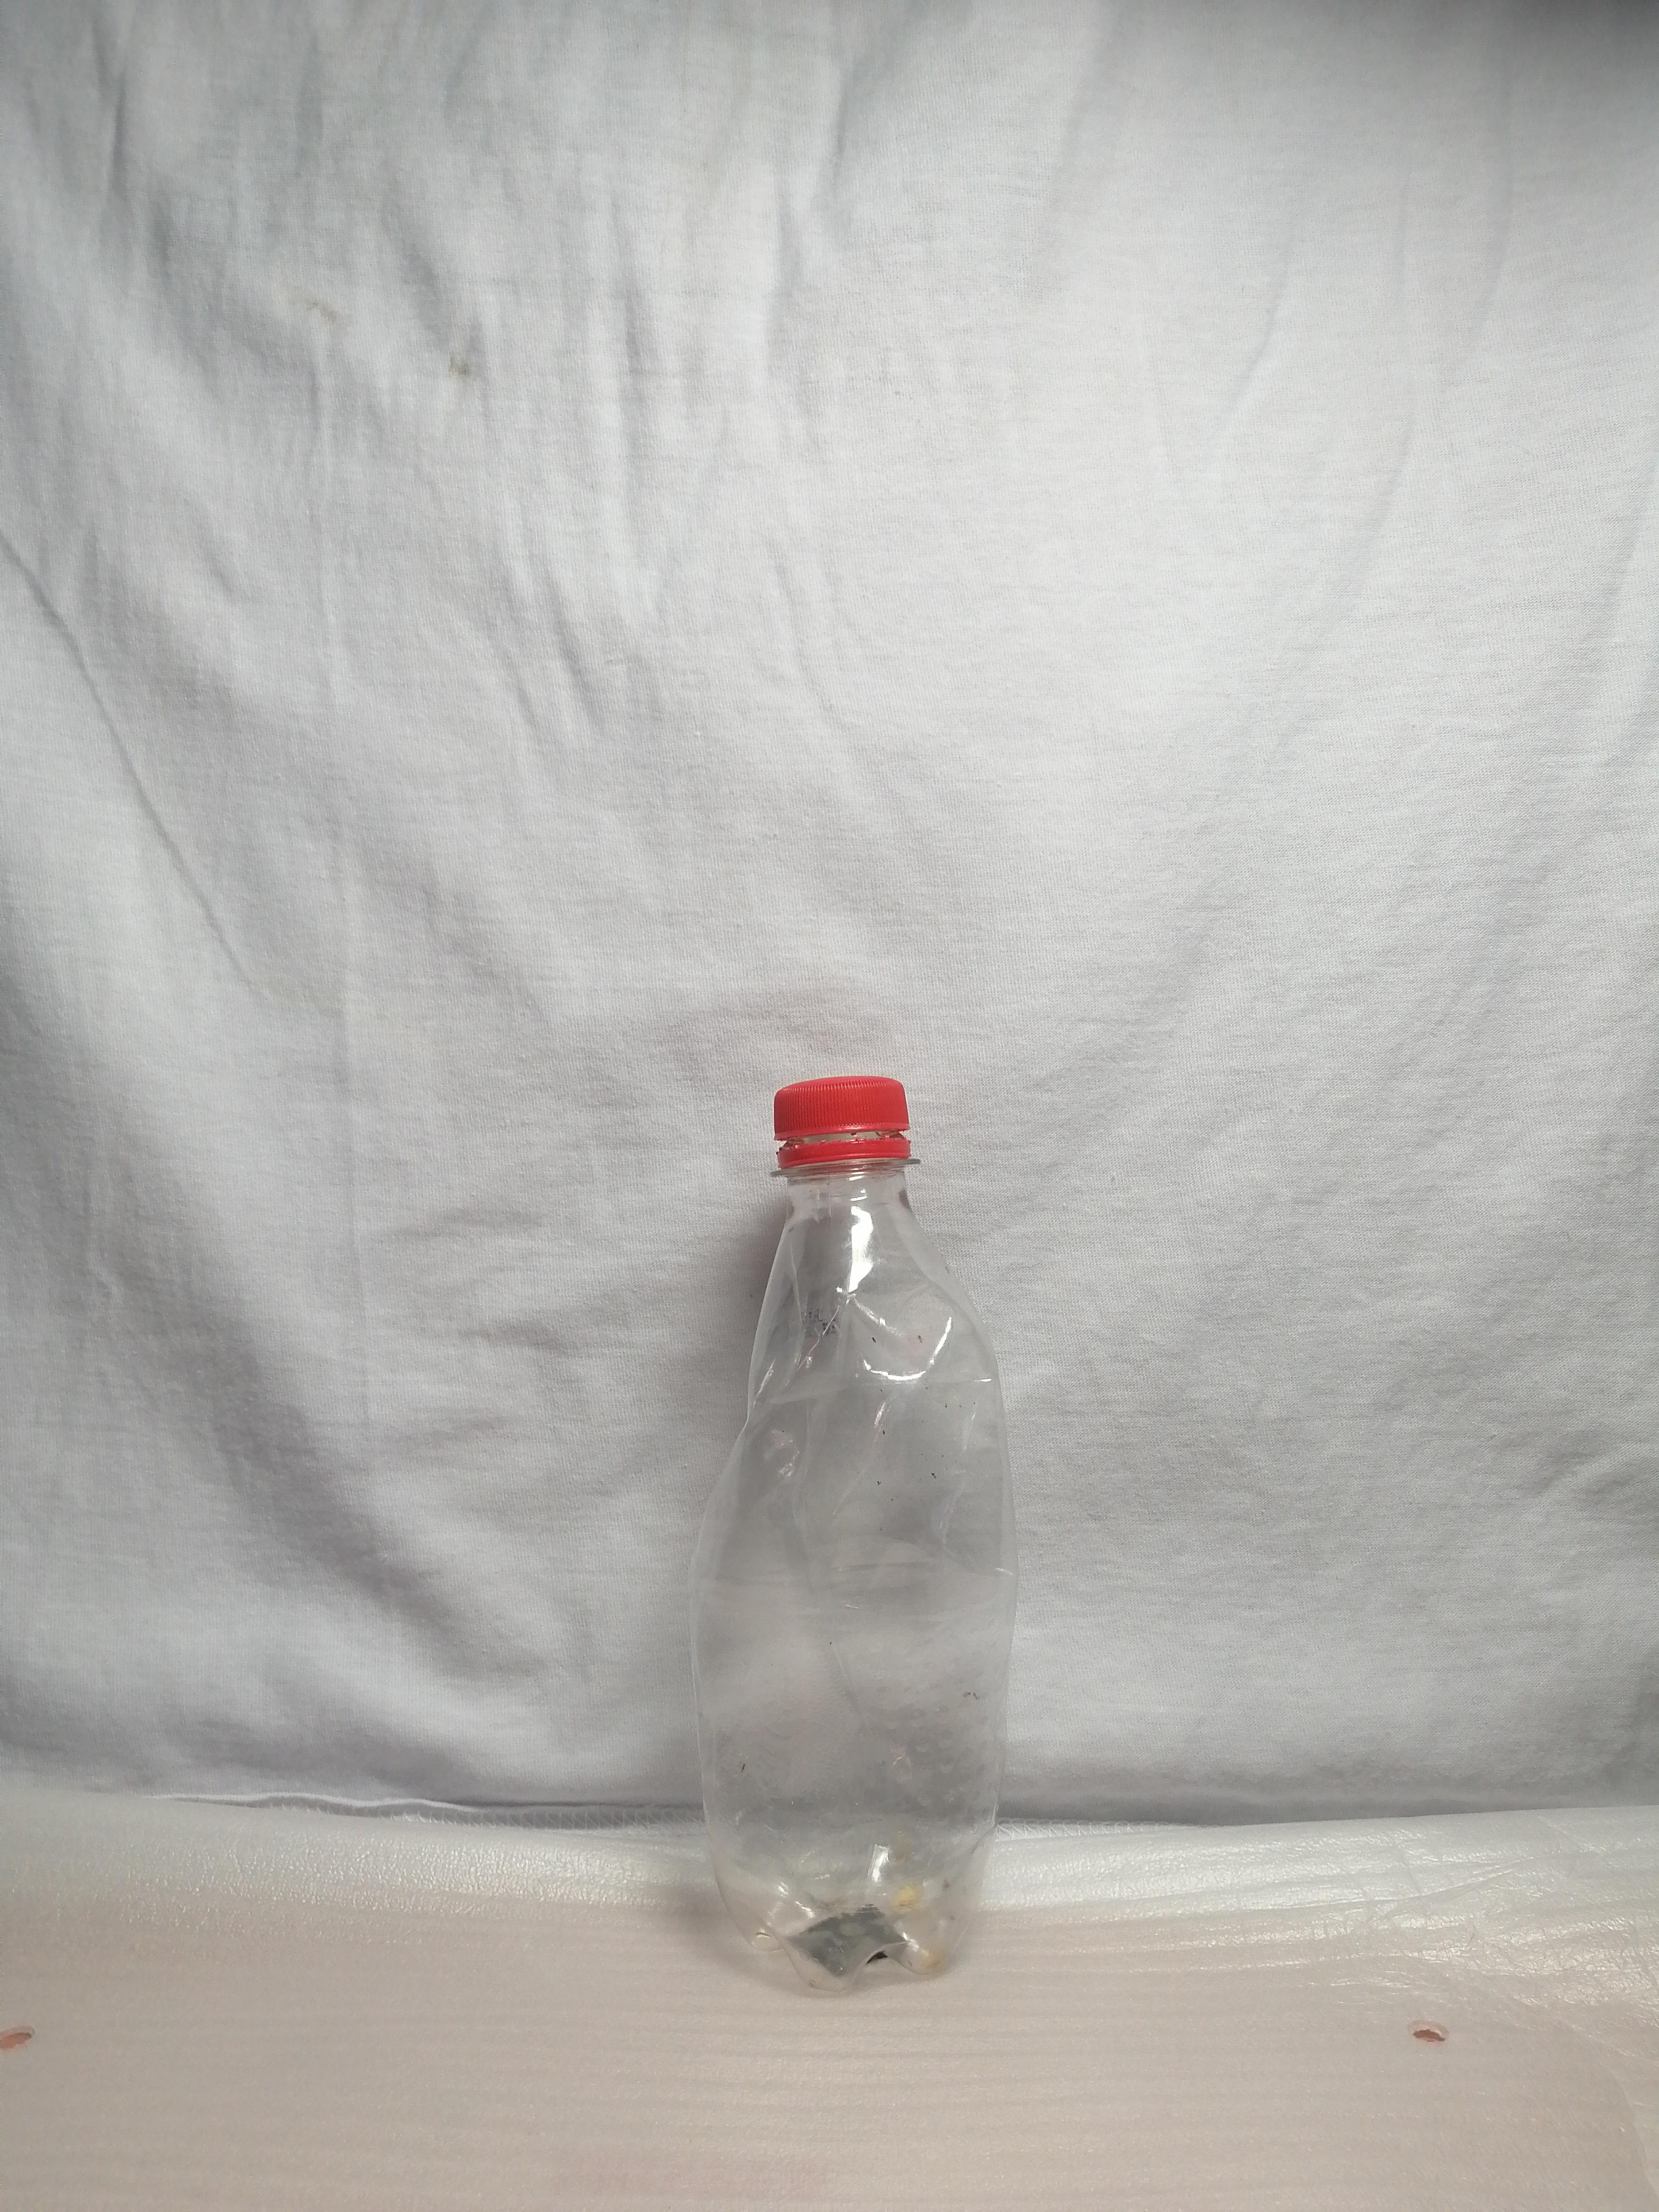plastic-bottle: (595, 1027, 1128, 2083)
